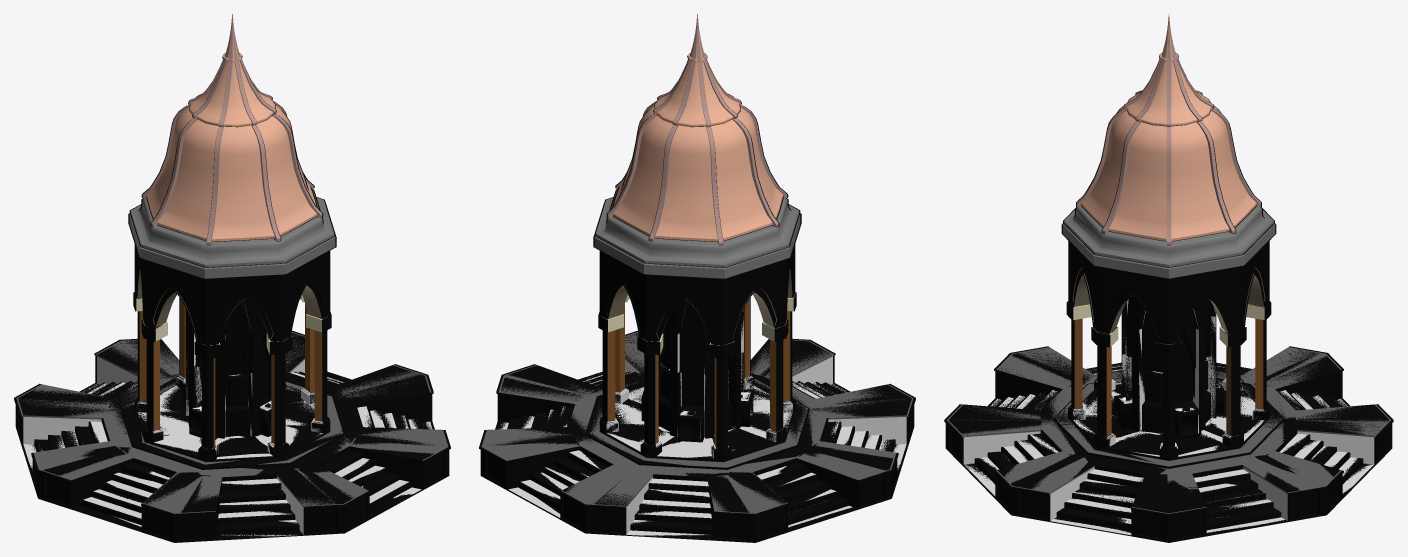
File: Fountain.fbx
The picture shows the model from 3 angles, left to right: view 1: azimuth 30°, elevation 25°; view 2: azimuth 150°, elevation 25°; view 3: azimuth 270°, elevation 25°; orthographic projection.
Parts seen in each view (by area): view 1: Cylinder.001, Cylinder.007; view 2: Cylinder.001, Cylinder.007; view 3: Cylinder.001, Cylinder.007.
Part boxes in pixels (left/top/right/bottom): Cylinder.001: left=14, top=53, right=450, bottom=542; Cylinder.007: left=16, top=14, right=448, bottom=536; Cylinder.001: left=479, top=53, right=915, bottom=542; Cylinder.007: left=481, top=14, right=913, bottom=535; Cylinder.001: left=944, top=56, right=1393, bottom=542; Cylinder.007: left=947, top=14, right=1390, bottom=535.
Bounding box in the file's own units: 1133 × 1208 × 1133.
